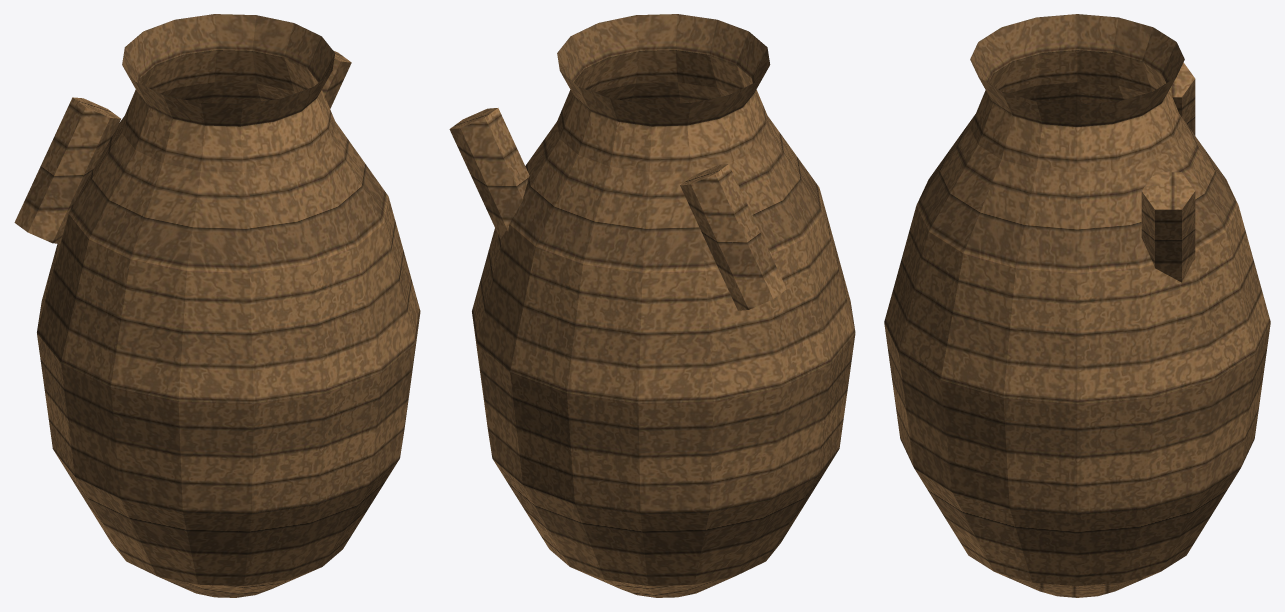
File: bigjar.glb
The picture shows the model from 3 angles, left to right: view 1: azimuth 30°, elevation 25°; view 2: azimuth 150°, elevation 25°; view 3: azimuth 270°, elevation 25°; orthographic projection.
Visible parts, largest first — view 1: bigjar; view 2: bigjar; view 3: bigjar.
Boxes of the visible parts, left/top/right/bottom form: bigjar: left=14, top=14, right=420, bottom=597; bigjar: left=449, top=14, right=855, bottom=597; bigjar: left=884, top=14, right=1270, bottom=597.
Bounding box in the file's own units: 0.72 × 1.06 × 0.72.
1 material, 1 textured.
